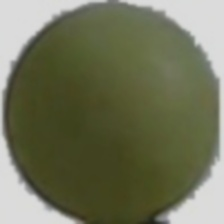grapes: (0, 45, 195, 206)
